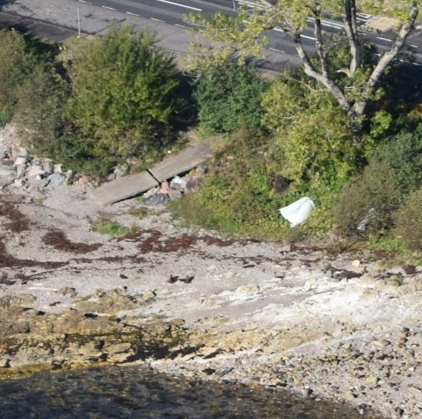cuboid: (89, 168, 161, 209), (145, 142, 212, 183), (270, 193, 321, 232)
